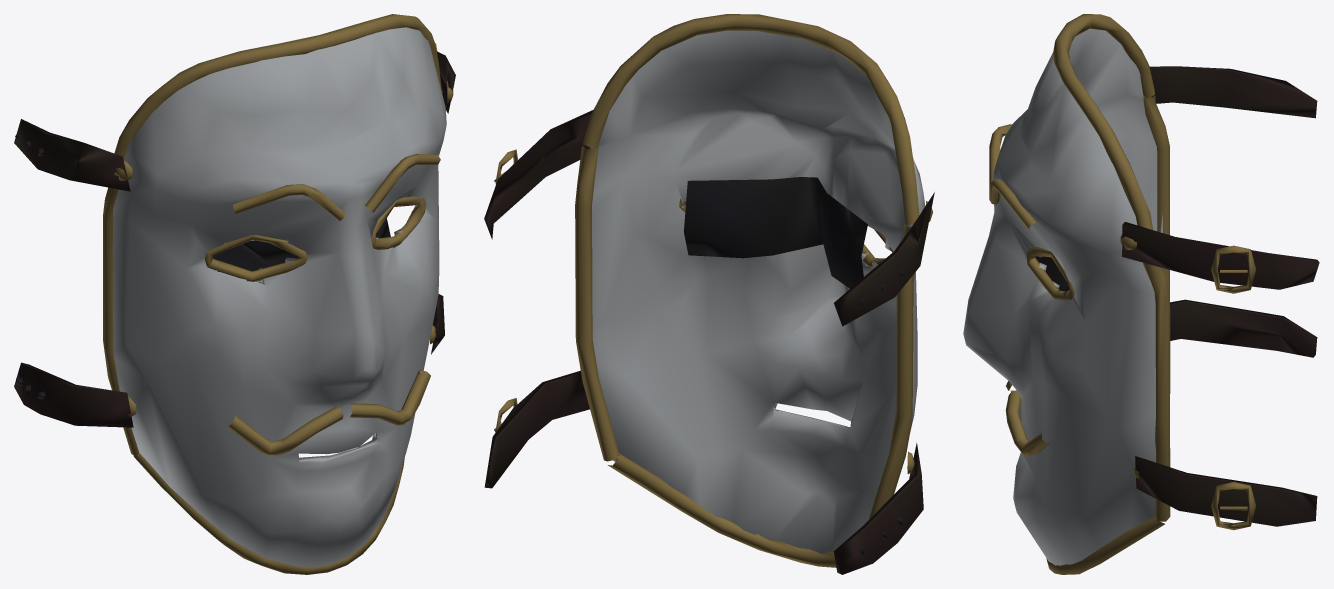
The picture shows the model from 3 angles, left to right: view 1: azimuth 30°, elevation 25°; view 2: azimuth 150°, elevation 25°; view 3: azimuth 270°, elevation 25°; orthographic projection. The views are drawn at different scales.
Parts seen in each view (by area): view 1: polished fluted plate, recess and lining; view 2: polished fluted plate, recess and lining; view 3: polished fluted plate, recess and lining.
Part boxes in pixels (x1,y1,x2,y2): polished fluted plate: (103, 14, 453, 574); recess and lining: (14, 51, 455, 427); polished fluted plate: (494, 14, 932, 567); recess and lining: (484, 110, 934, 574); polished fluted plate: (963, 14, 1256, 574); recess and lining: (1035, 66, 1319, 526).
Bounding box in the file's own units: 0.1781 × 0.2295 × 0.1434.
